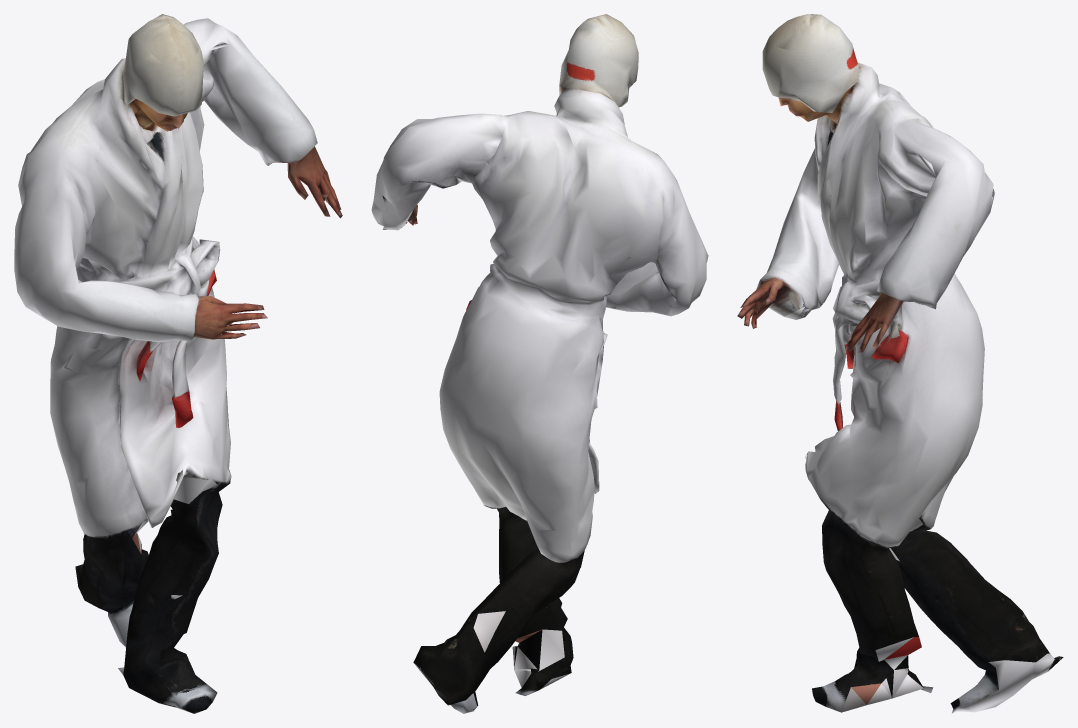
The model's file is whiterobe.opt.glb.
3 views of the same model, side by side, from view 1: azimuth 30°, elevation 25°; view 2: azimuth 150°, elevation 25°; view 3: azimuth 270°, elevation 25° (orthographic). The views are drawn at different scales.
Visible parts, largest first — view 1: Low.001; view 2: Low.001; view 3: Low.001.
Boxes of the visible parts, <box> form: Low.001: <box>14,14,342,713</box>; Low.001: <box>371,14,708,713</box>; Low.001: <box>737,14,1063,713</box>.
Size of the model in its own units: 1.86 by 3.83 by 1.68.
Materials: 1 (1 with a texture image).
